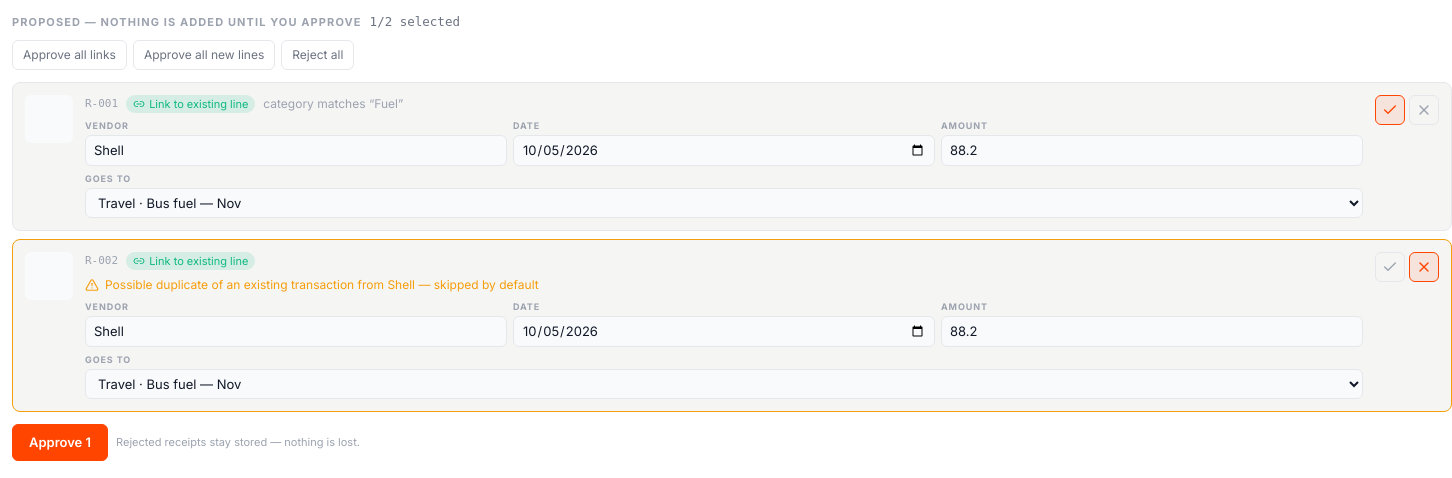
Test: RCP-06 — reject writes nothing › “Reject all” clears the selection
Click the button "Reject all". click: (318, 55)
box: 281,40 -> 354,70
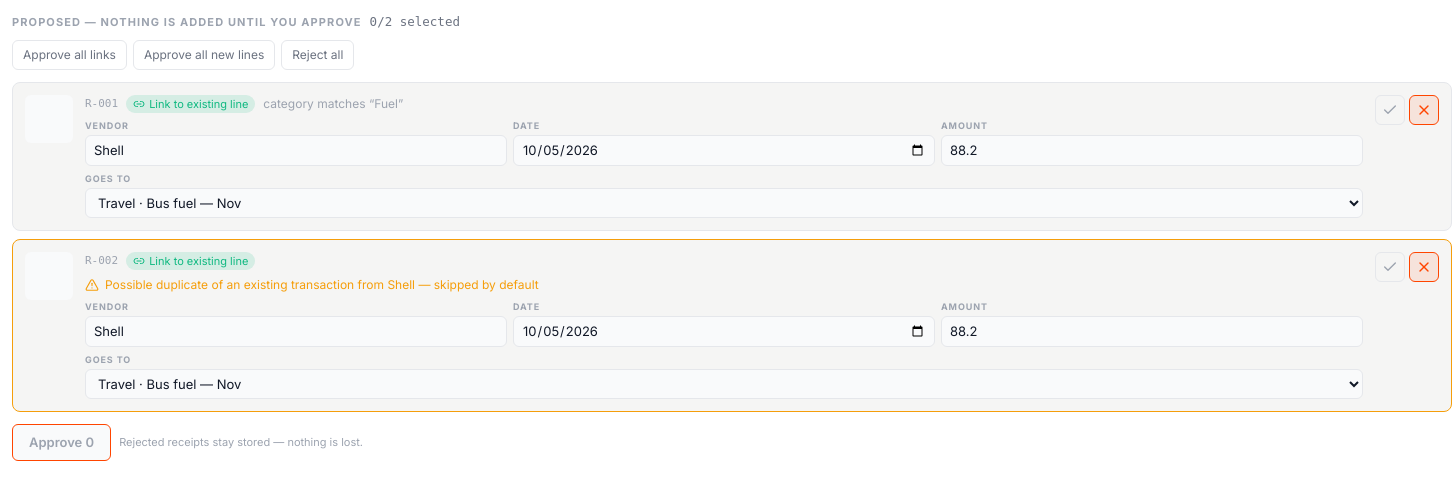
Expected: the button with test id "receipt-apply" is disabled, 12,424 -> 111,461
